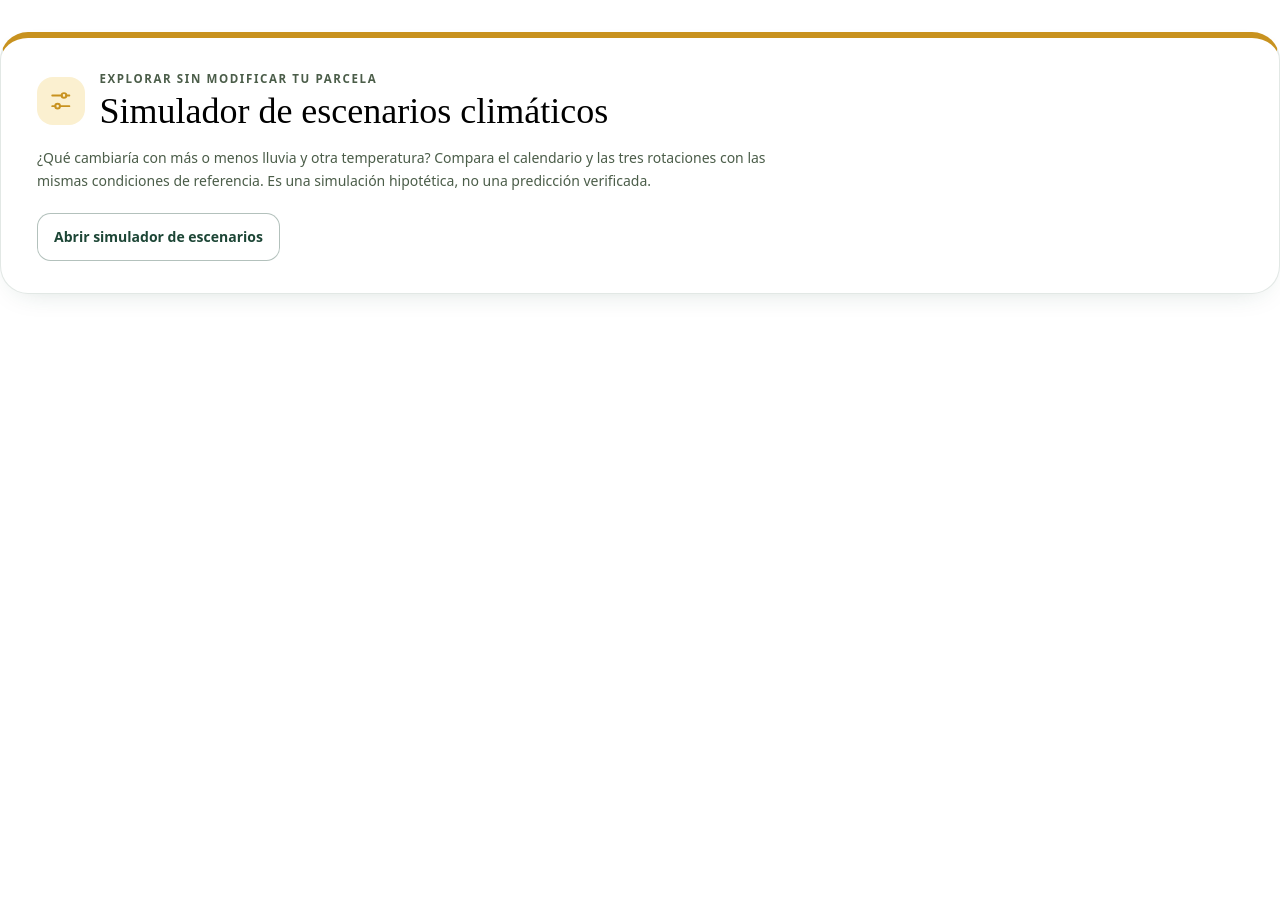
Test: Simulador visual, controles, peticiones y sesiones › un error de API oculta los resultados anteriores y permite reintentar
Click the button "Abrir simulador de escenarios" at point(158, 237), box [37,213,280,261]
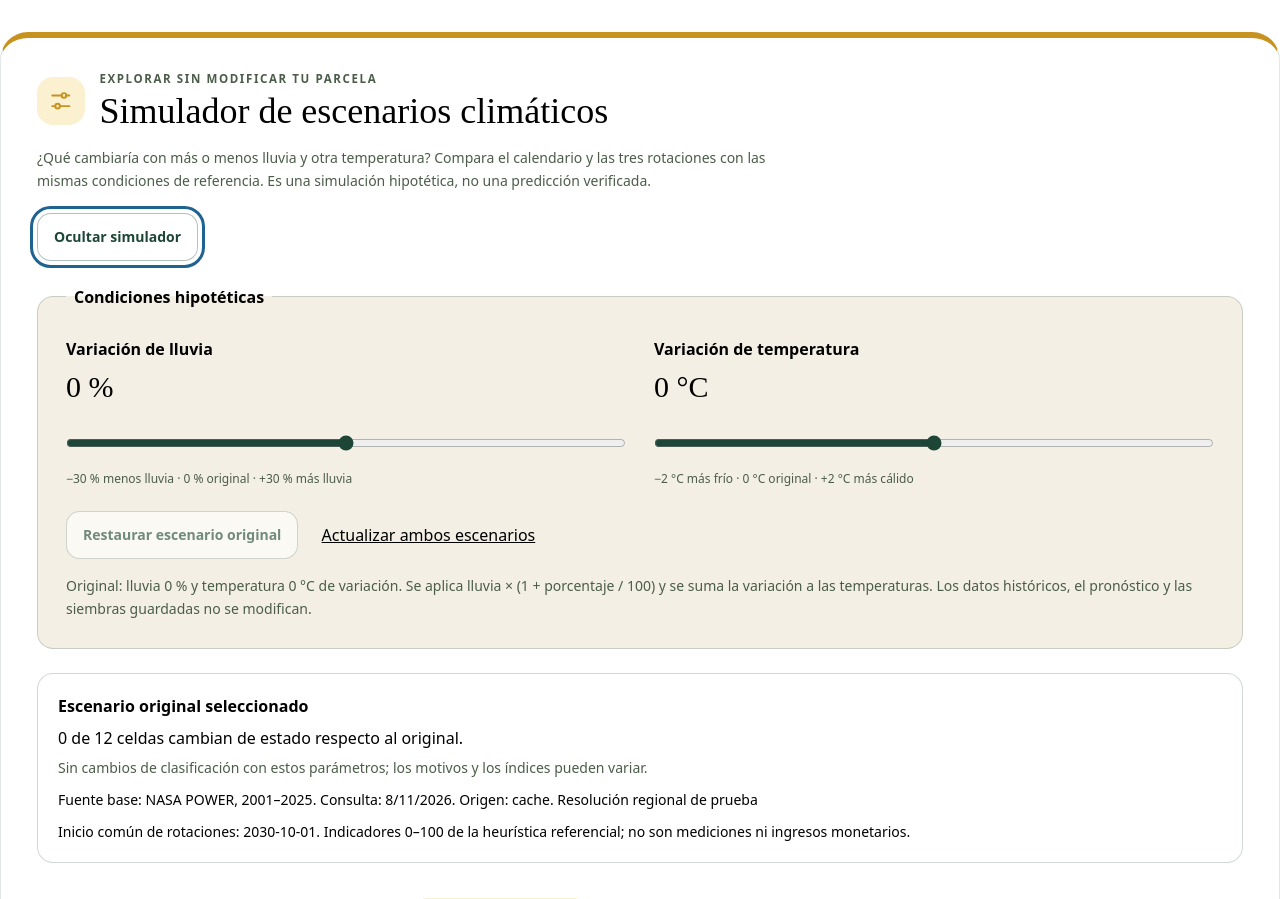
Expected: the text "Escenario original seleccionado" is shown, [58,695,308,717]
Set the slider labelled "Variación de lluvia" to "-30" at point(74, 443), box [66,421,626,465]
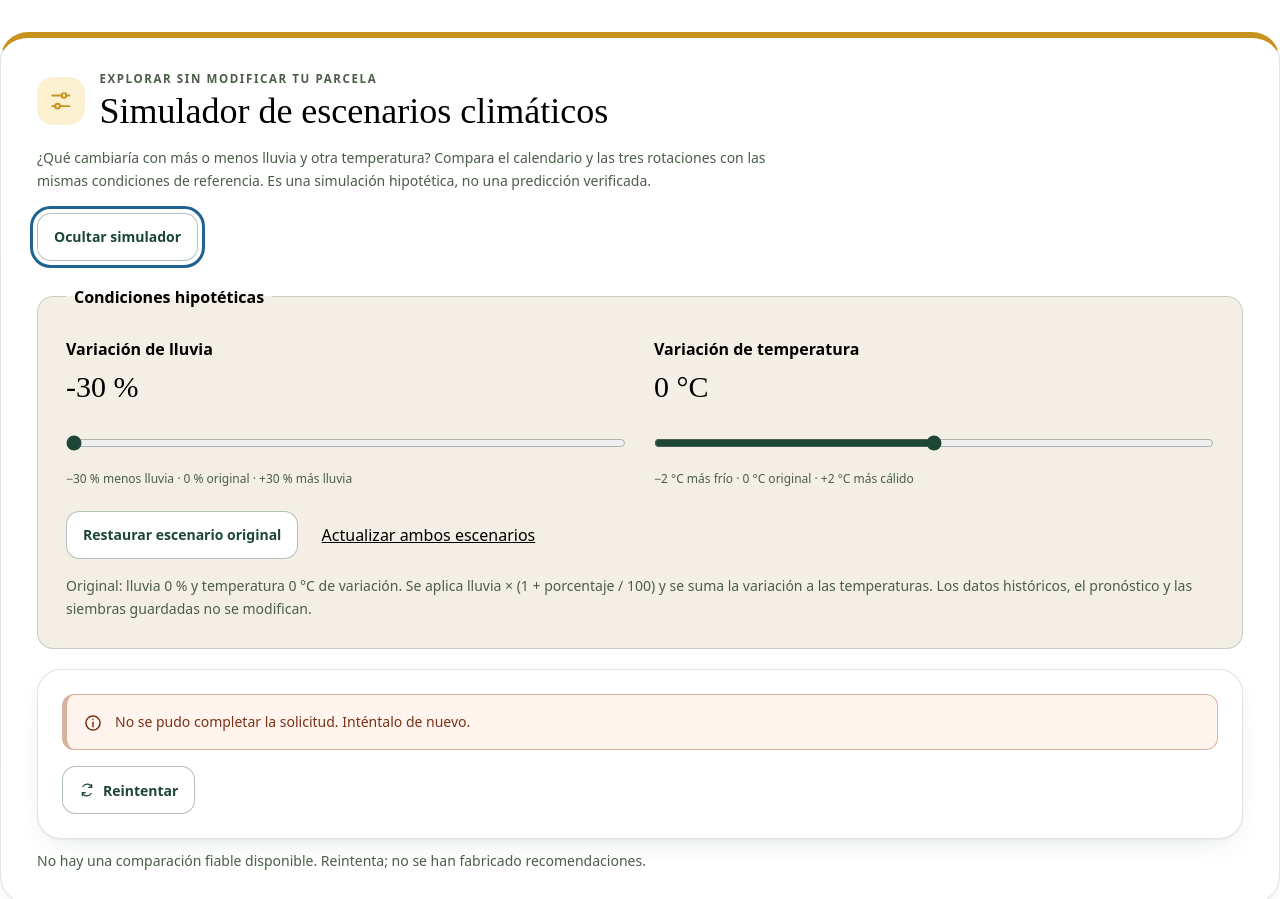
Expected: the message shows "No se pudo completar la solicitud", [115,712,470,731]
Click the button "Reintentar" at point(129, 790), box [62,766,195,814]
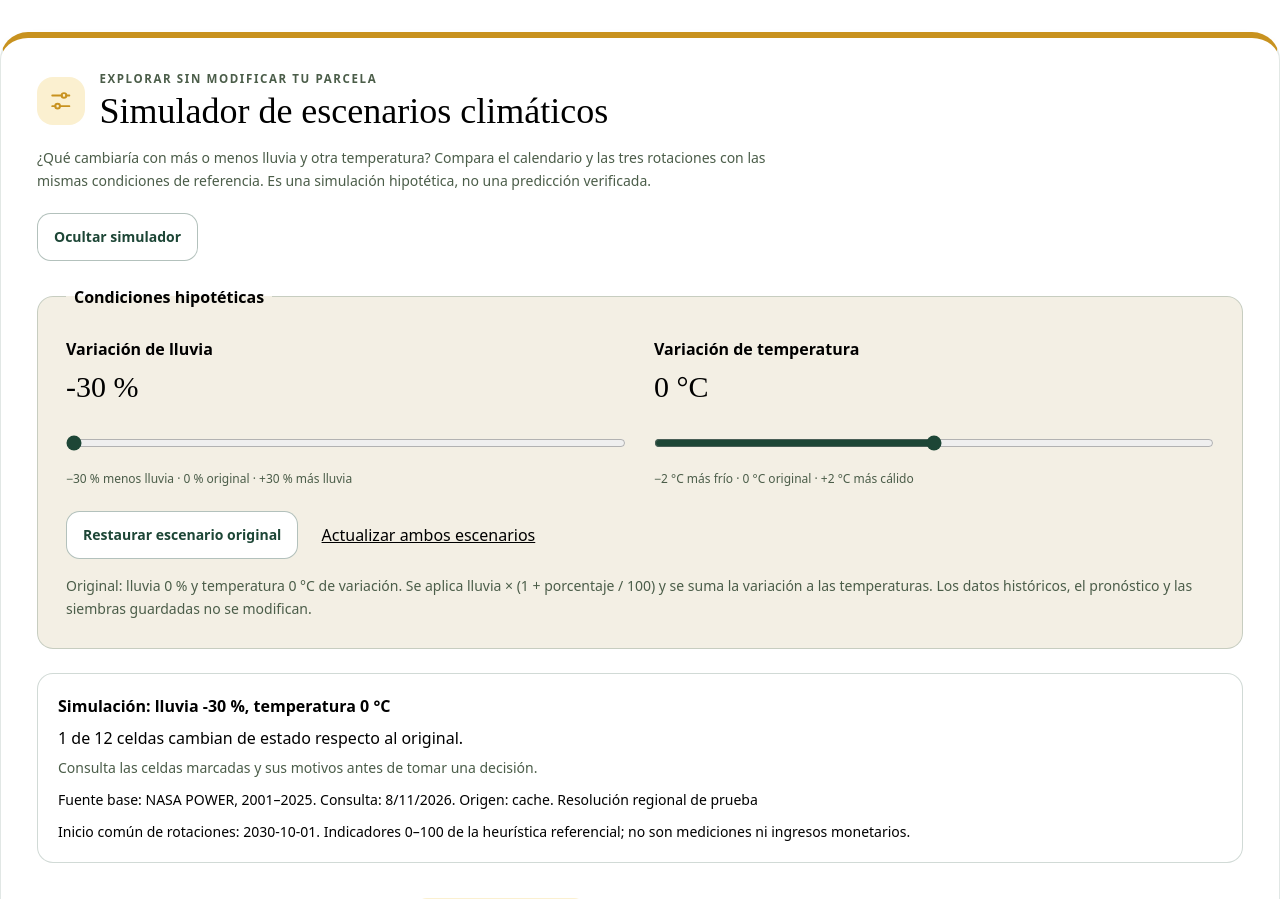
Expected: the text "Simulación: lluvia -30 %, temperatura 0 °C" is shown, [58,695,390,717]
